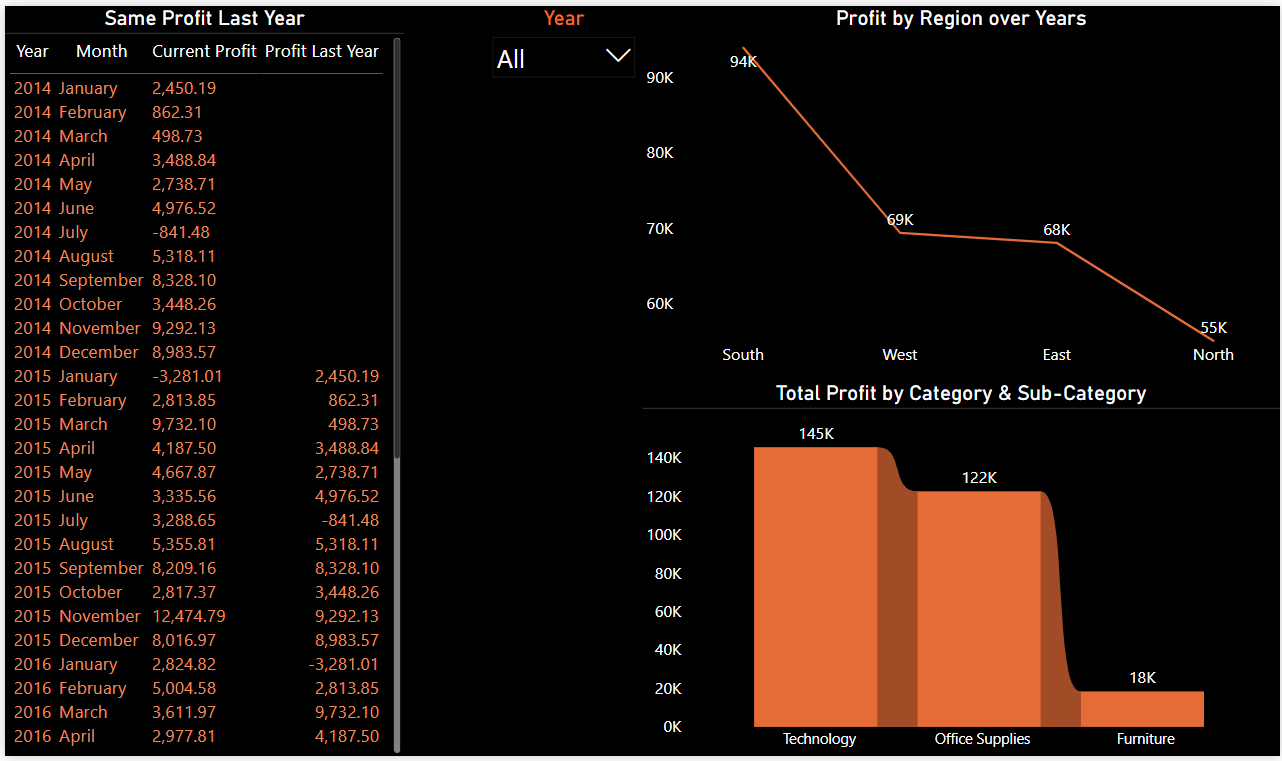

What the dashboard file says about the page in this screenshot:
{"tool":"powerbi","page":{"name":"Page 3","canvas":[1700,1000],"ordinal":2},"visuals":[{"type":"tableEx","title":"Same Profit Last Year","fields":{"Values":["calender.Date.Variation.Date Hierarchy.Year","calender.Date.Variation.Date Hierarchy.Month","All Measures.Total_Profit","All Measures.sameperiodlastyear"]},"box":[0,0,532,1000],"z":0},{"type":"columnChart","title":"Total Profit by Category & Sub-Category","fields":{"Category":["Store.Category"],"Y":["All Measures.Total_Profit"]},"box":[850,500,850,500],"z":1000},{"type":"textbox","box":[1368,450,332,40],"z":2000},{"type":"lineChart","title":"Profit by Region over Years","fields":{"Y":["All Measures.Total_Profit"],"Category":["Store.Region"]},"box":[850,0,850,490],"z":3000},{"type":"slicer","title":"Year","fields":{"Values":["calender.Date.Variation.Date Hierarchy.Year"]},"box":[640,0,210,124],"z":4000}]}

Visuals, with their boxes in screenshot pixels (x1, y1, x2, y2), scaled from the page's 1700x1000 canvas onto the 1282x761 screenshot:
"Same Profit Last Year" tableEx: bbox=[0, 0, 401, 760]
"Total Profit by Category & Sub-Category" columnChart: bbox=[641, 380, 1281, 760]
textbox: bbox=[1032, 342, 1281, 373]
"Profit by Region over Years" lineChart: bbox=[641, 0, 1281, 373]
"Year" slicer: bbox=[483, 0, 641, 94]
